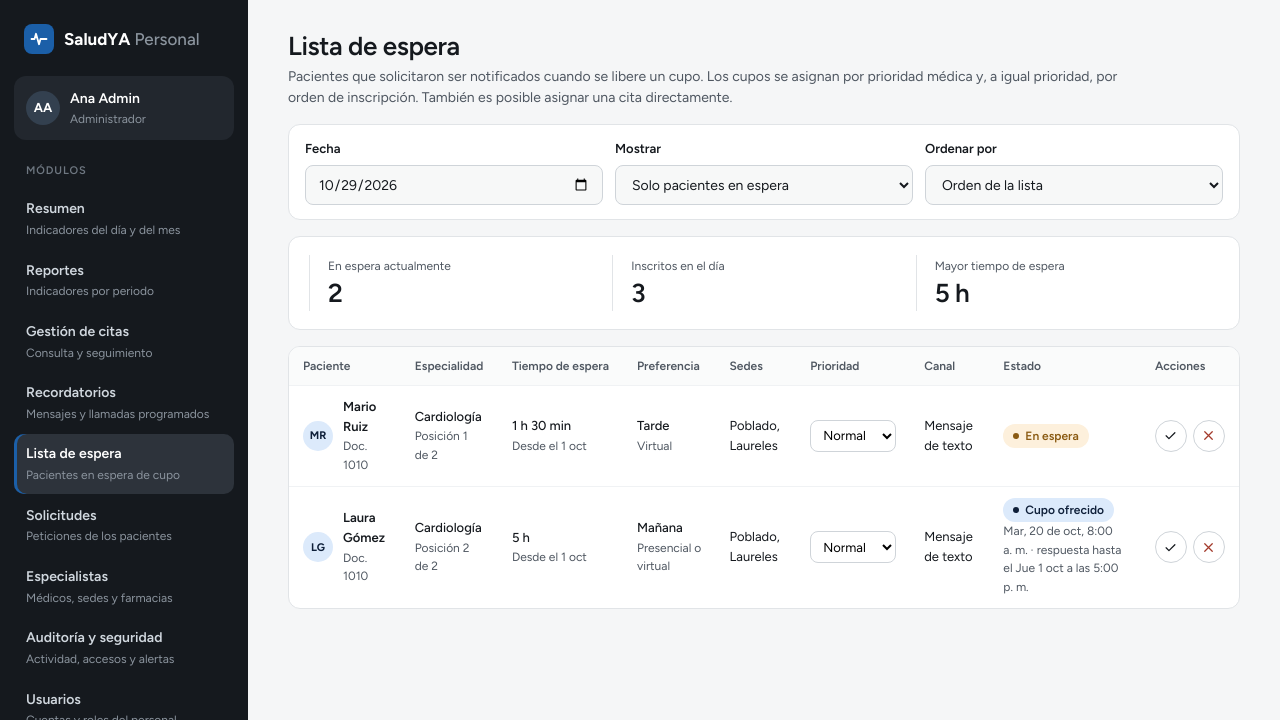
Test: Lista de espera del personal › retirar de la lista o cancelar la cita asignada
This screenshot has width=1280, height=720.
Click the button named "Retirar a Mario Ruiz de la lista" at (1209, 436), box [1193,420,1225,452]
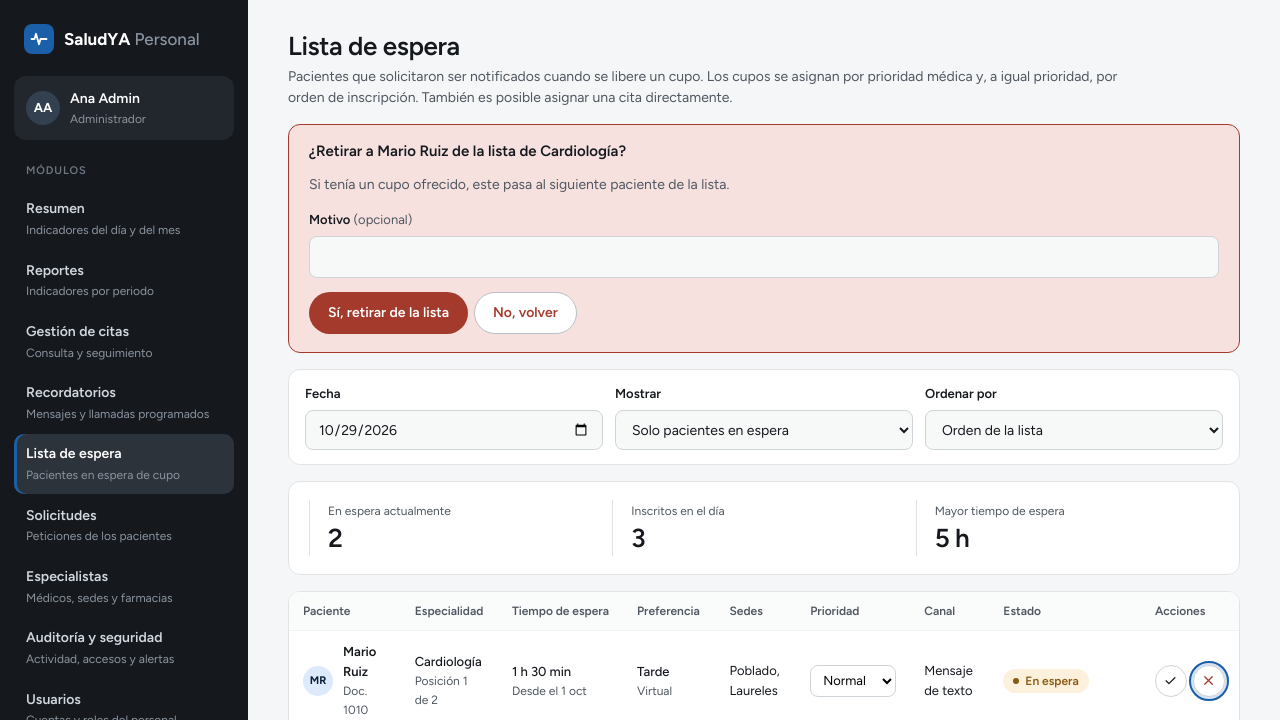
Result: the heading "¿Retirar a Mario Ruiz de la lista de Cardiología?" is shown at [309,142,626,160]
Type "Ya no la necesita" into the field labelled "Motivo (opcional)" at (764, 257), box [309,236,1219,278]
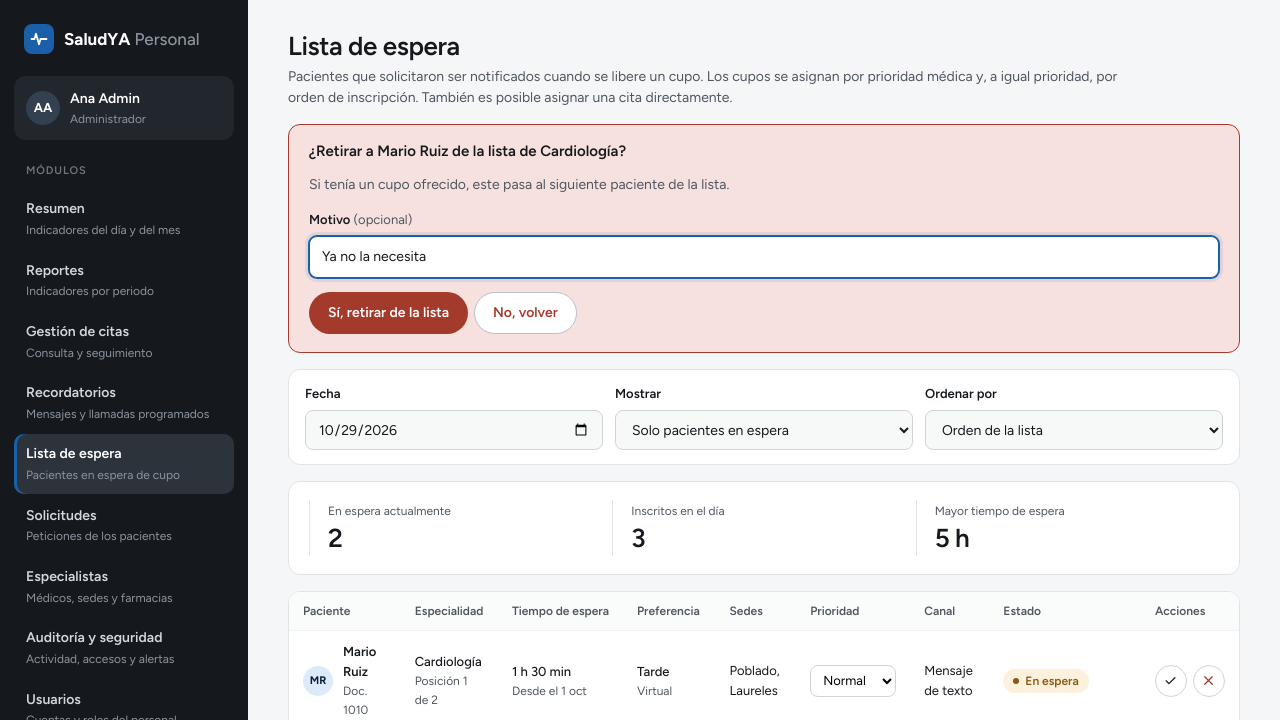
Click the button "Sí, retirar de la lista" at (388, 313), box [309,292,468,334]
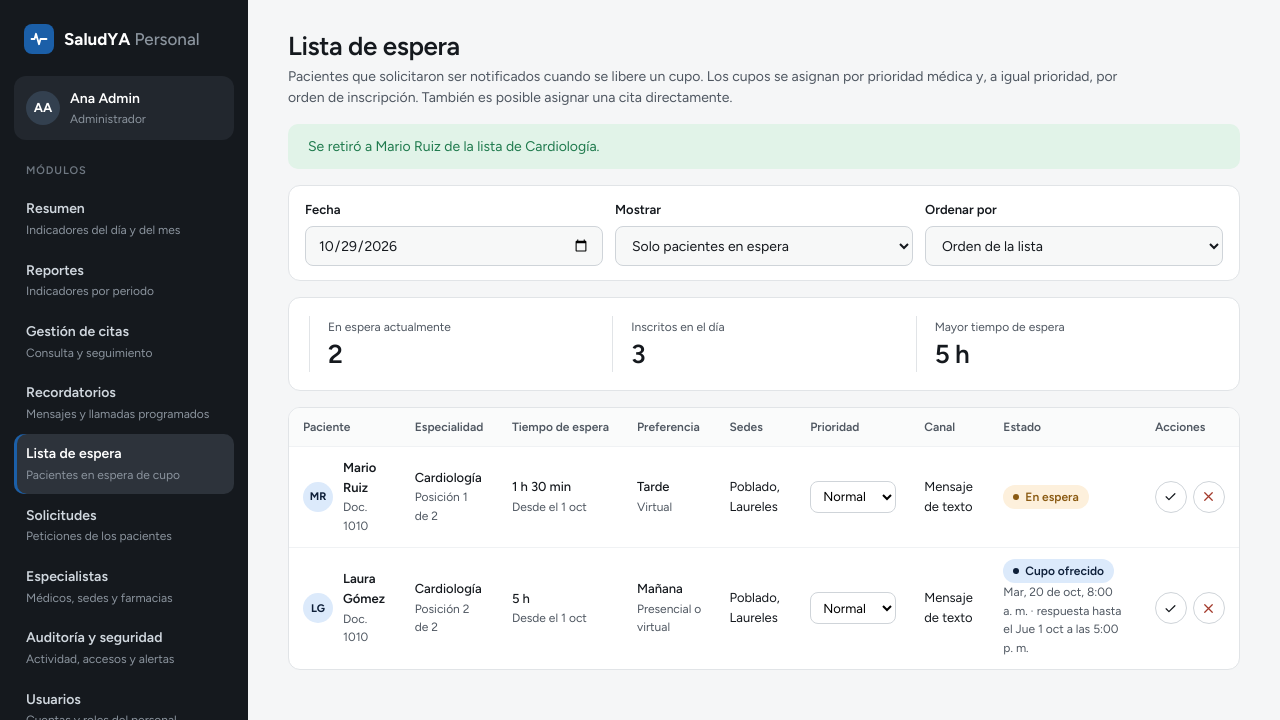
Result: the text "Se retiró a Mario Ruiz de la lista de Cardiología." is shown at [288,124,1240,169]
Select "Todas las solicitudes del día" in the dropdown labelled "Mostrar" at (764, 246), box [615,226,913,266]
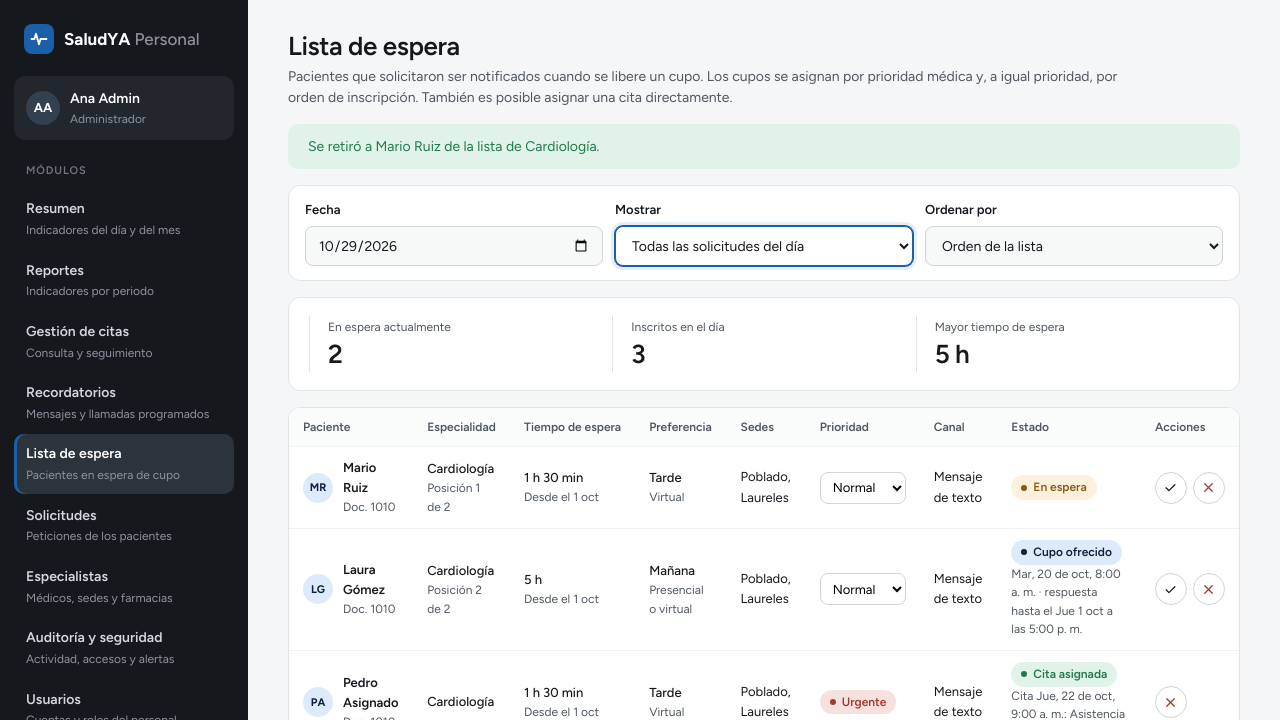
Click the button named "Cancelar la cita de Pedro Asignado" at (1171, 702), box [1155,686,1187,718]
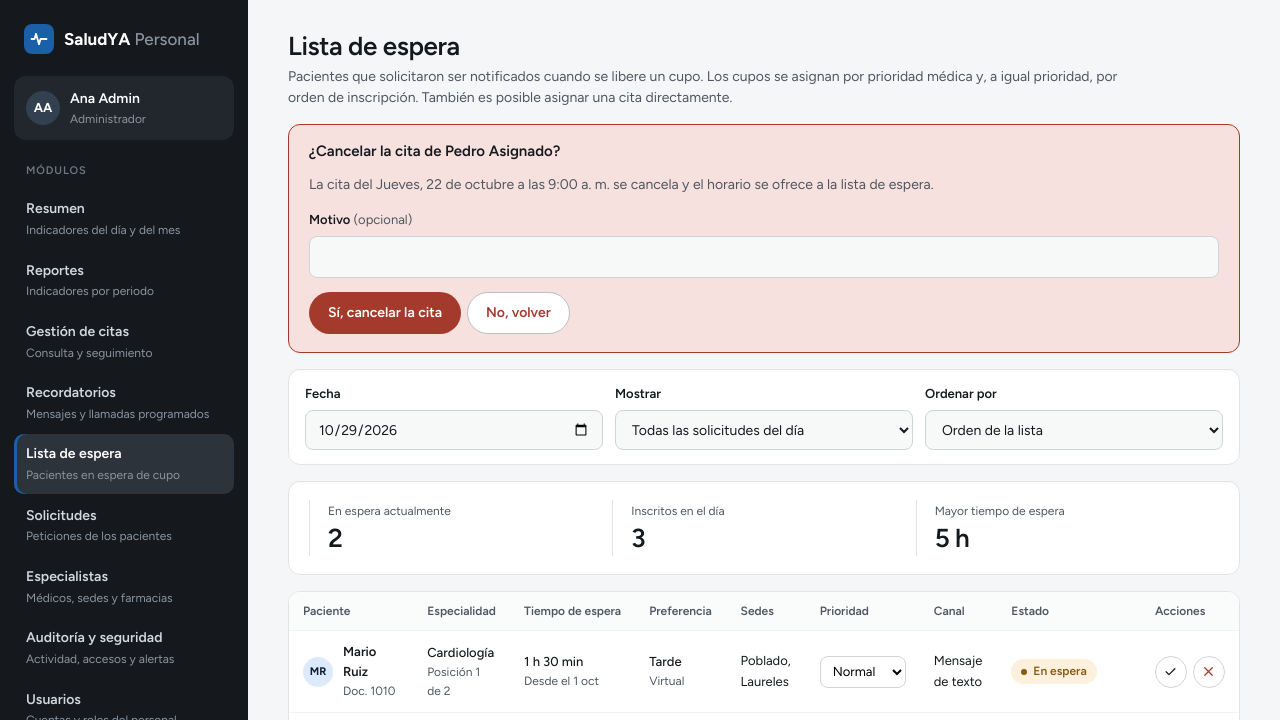
Result: the text "se cancela y el horario se ofrece a la lista de espera" is shown at [309,176,934,193]
Click the button "Sí, cancelar la cita" at (385, 313), box [309,292,461,334]
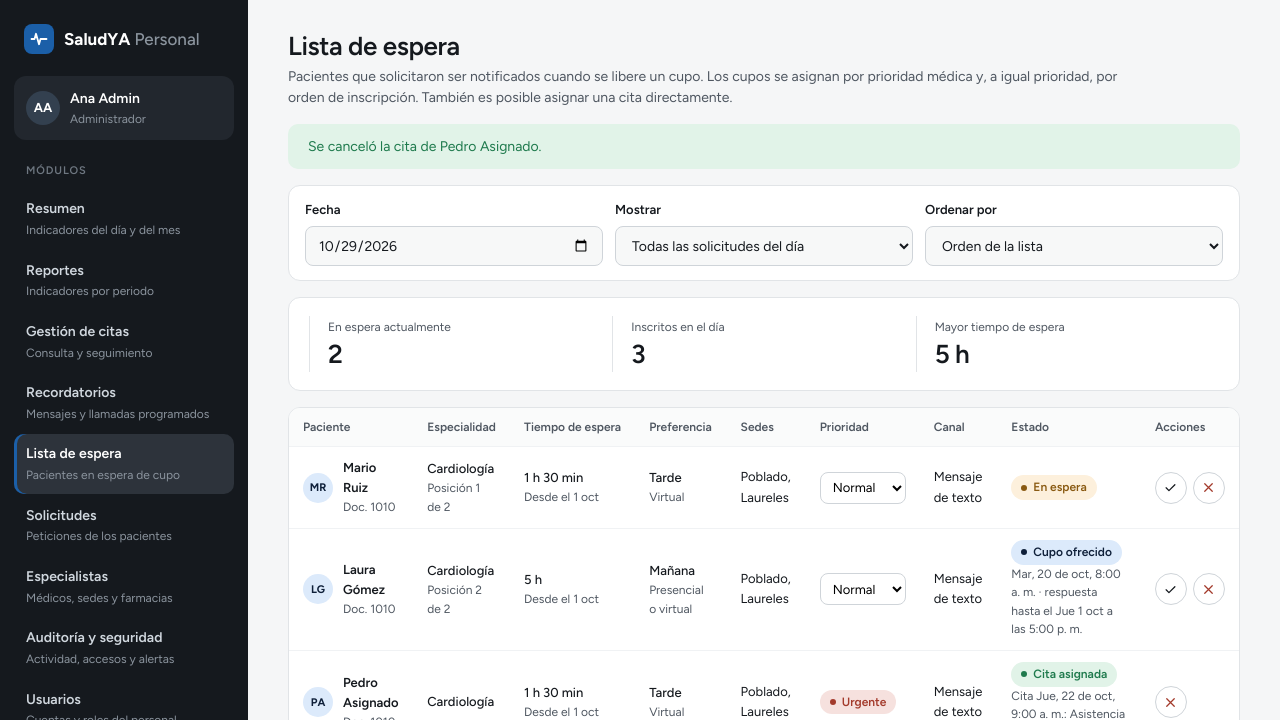
Result: the text "Se canceló la cita de Pedro Asignado." is shown at [288,124,1240,169]
